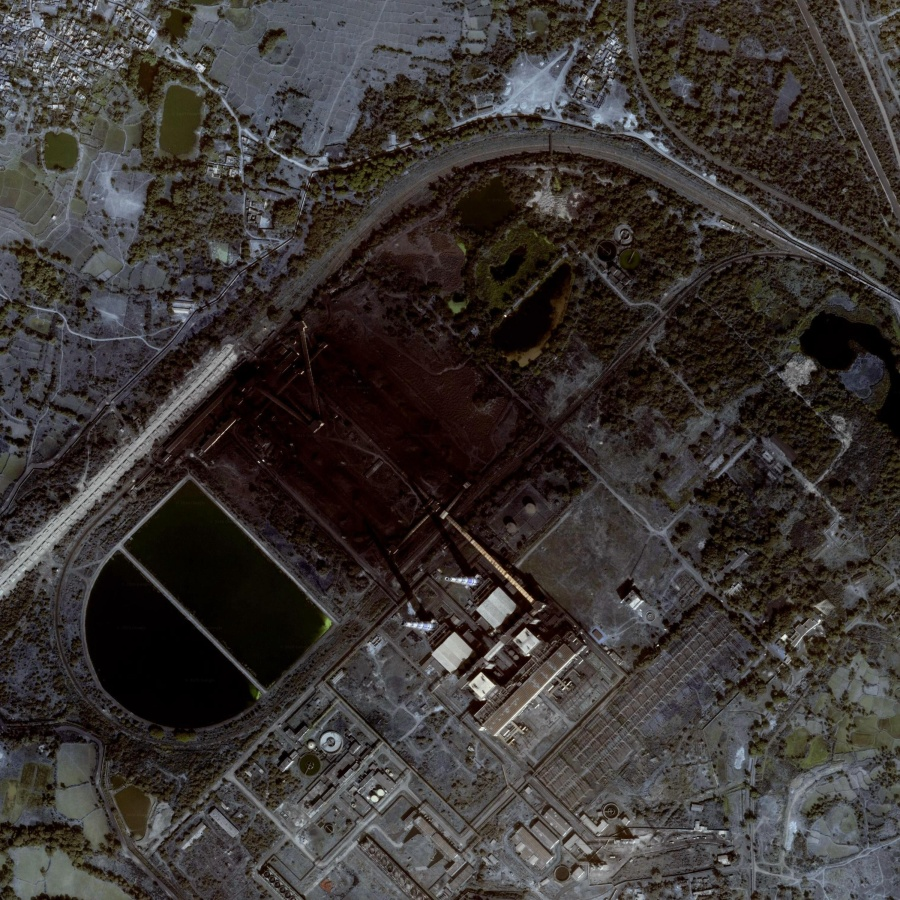PowerPlant: (68, 248, 579, 760)
